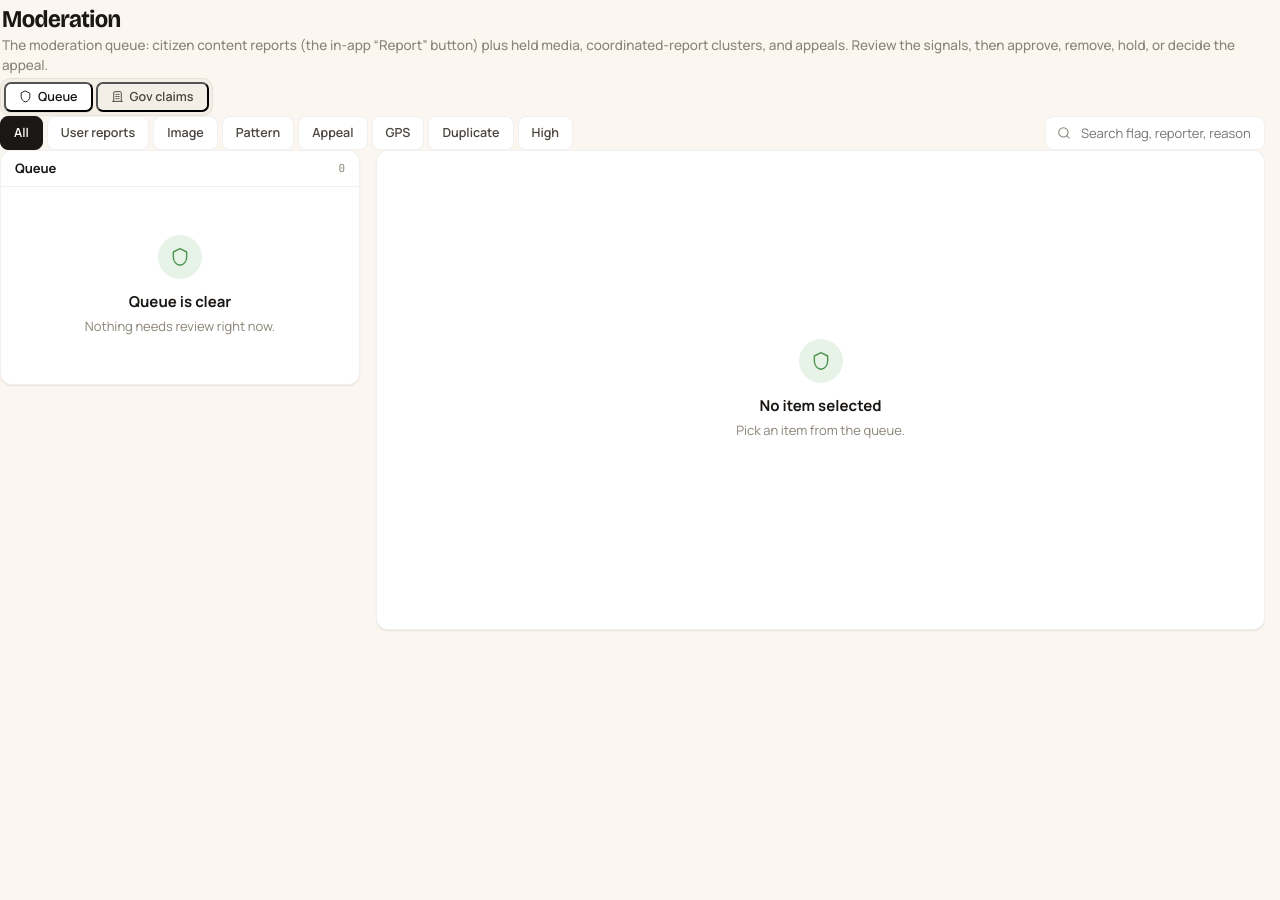
it: ModerationPage selection after a decision › clears the selection once a gov claim decision drops the claim from the list, never opening another
This screenshot has width=1280, height=900.
Click the radio button labelled "Gov claims": [152, 96] box [96,82,208,112]
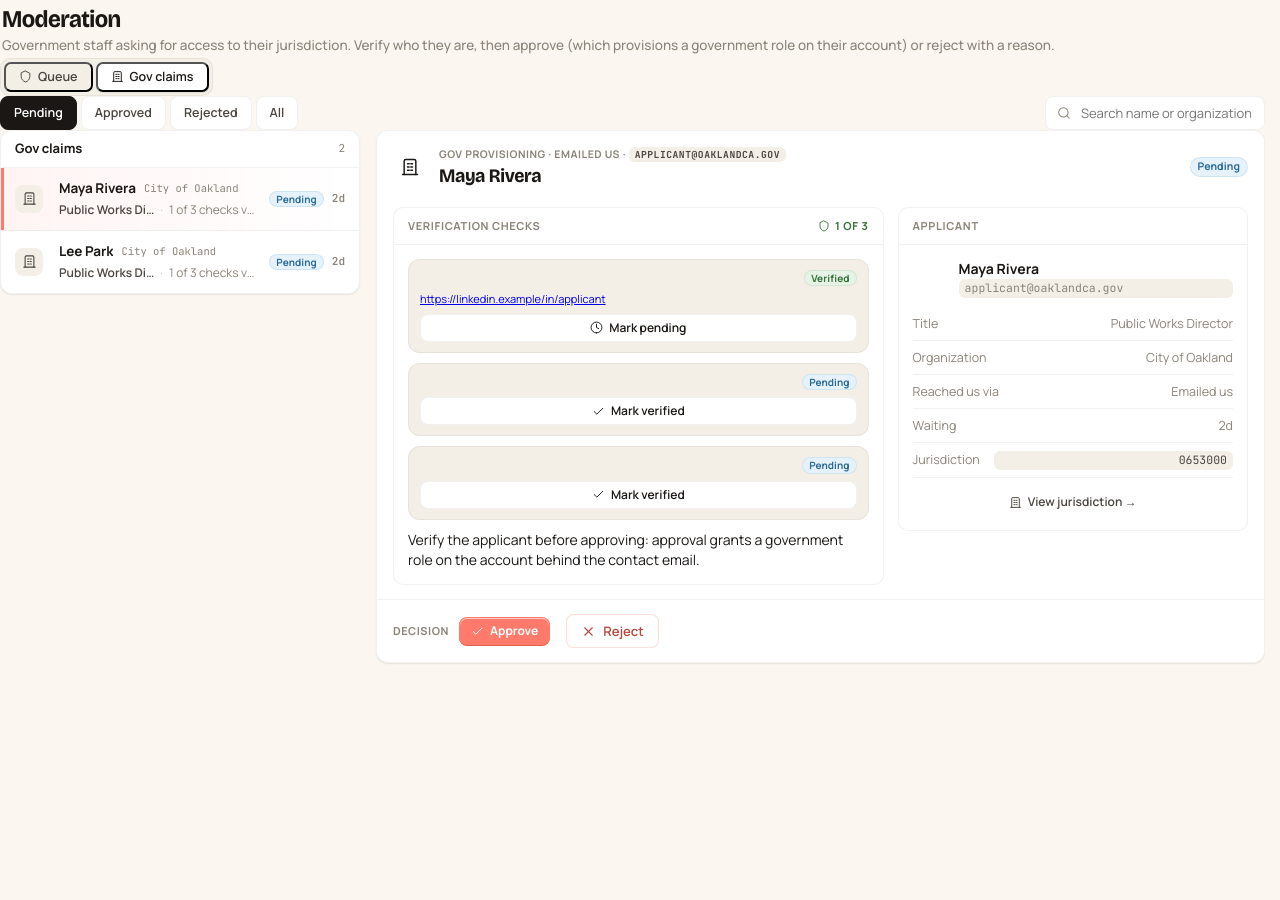
Expected: the heading "Maya Rivera" is shown, [439,164,541,187]
Click the button "Reject": [612, 631] box [566,614,659,648]
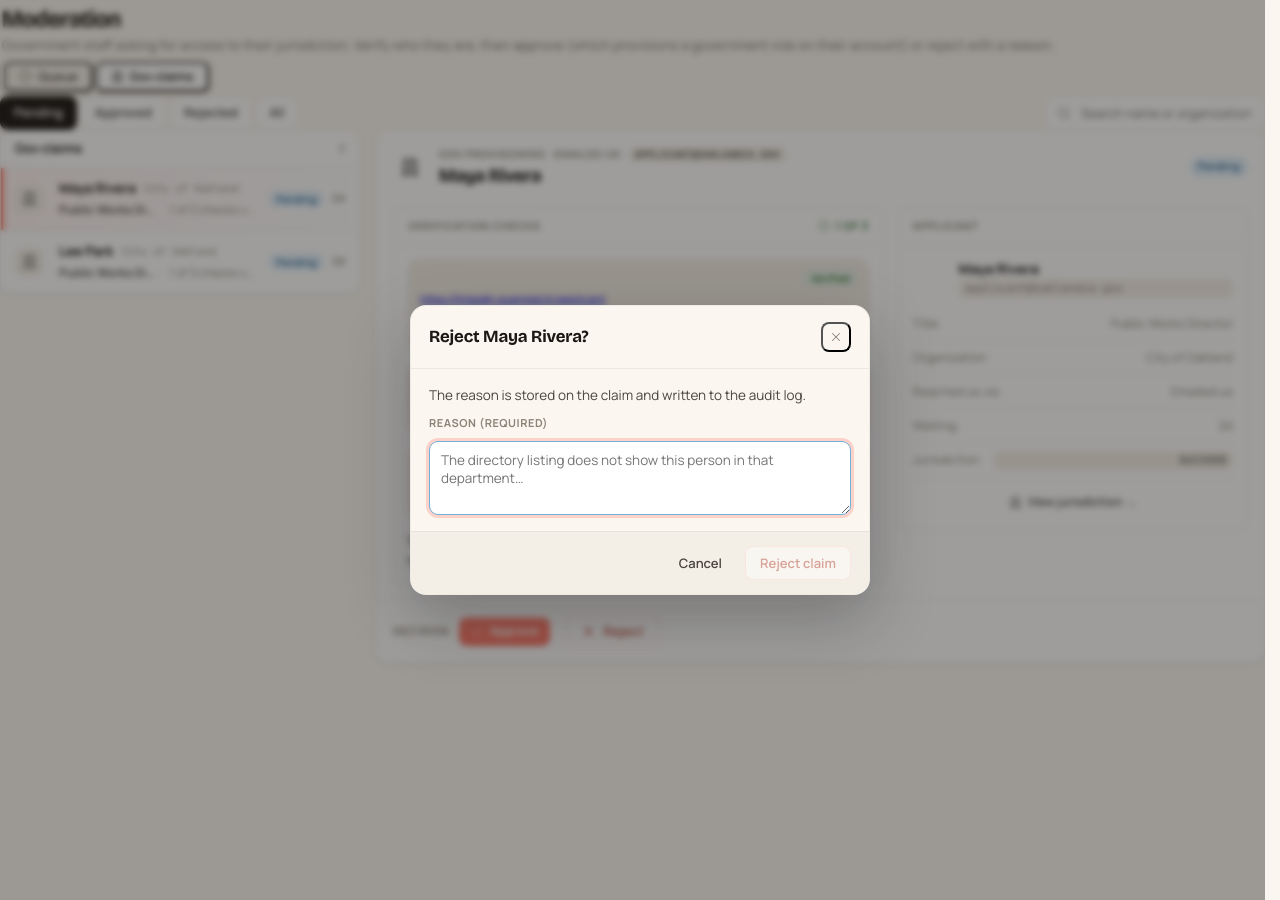
In the text box: [640, 478] box [429,441,851,515], type "Not in the directory"
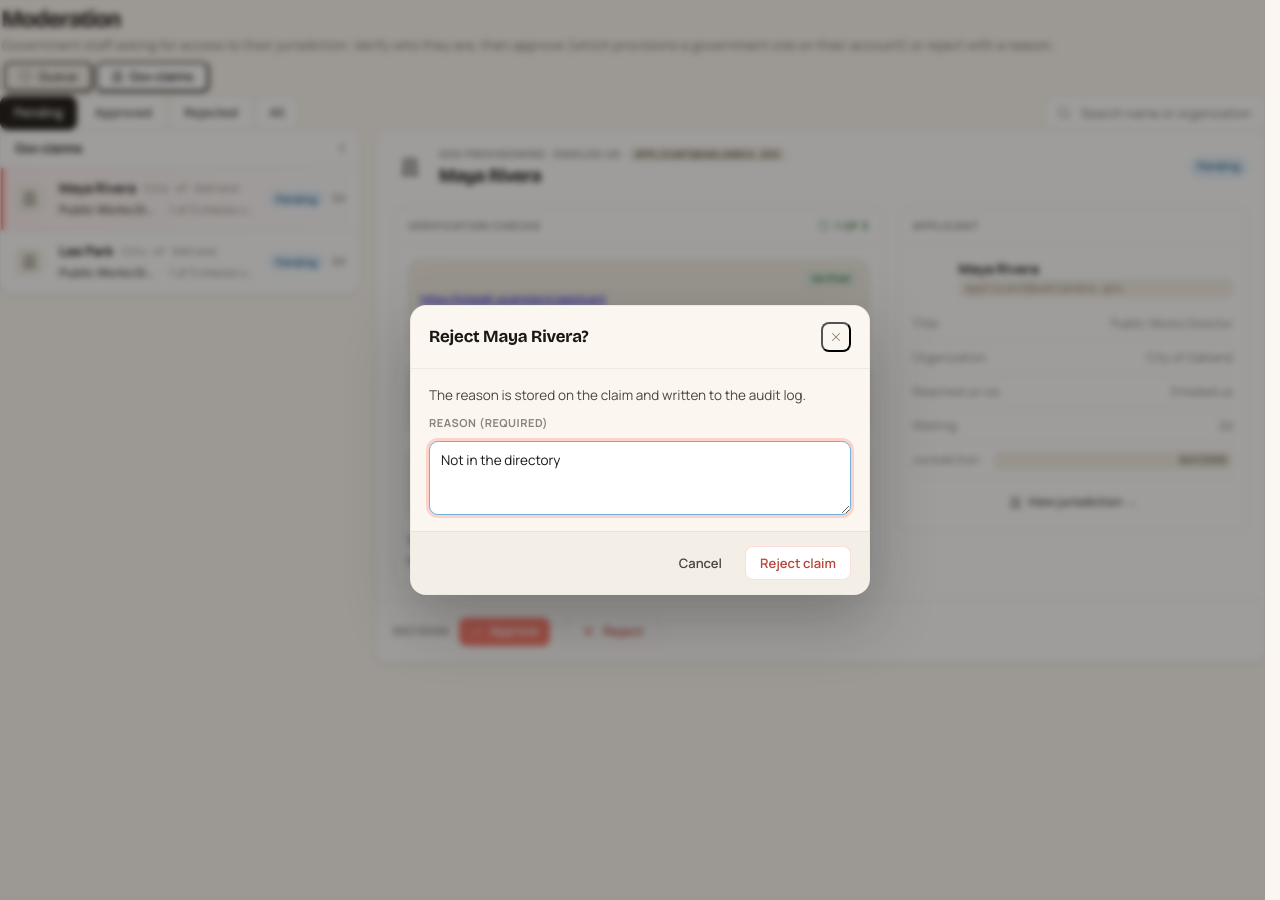
Click the button "Reject claim": [798, 563] box [745,546,851,580]
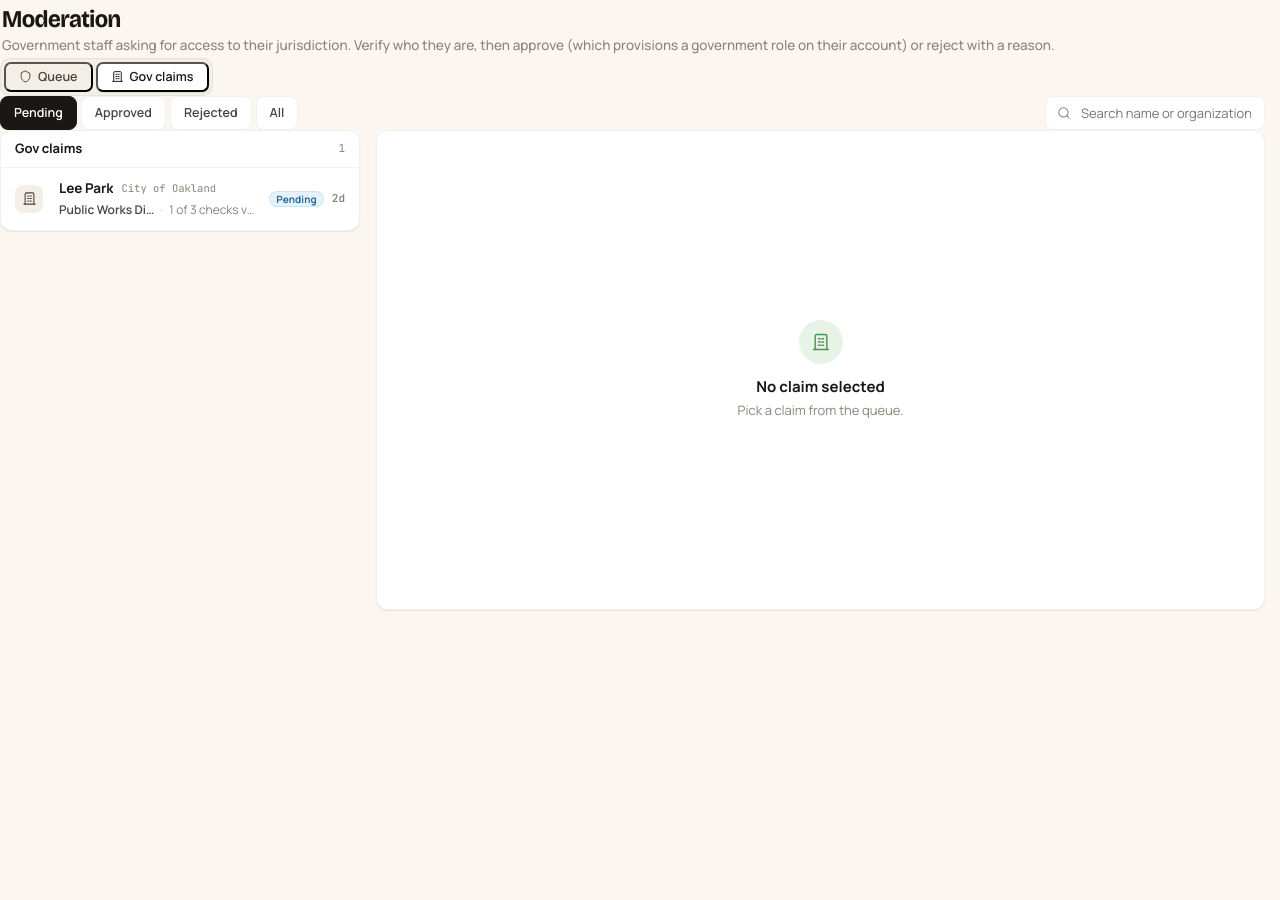
Expected: the button "Maya Rivera" is gone
Expected: the text "No claim selected" is shown, [756,376,885,398]
